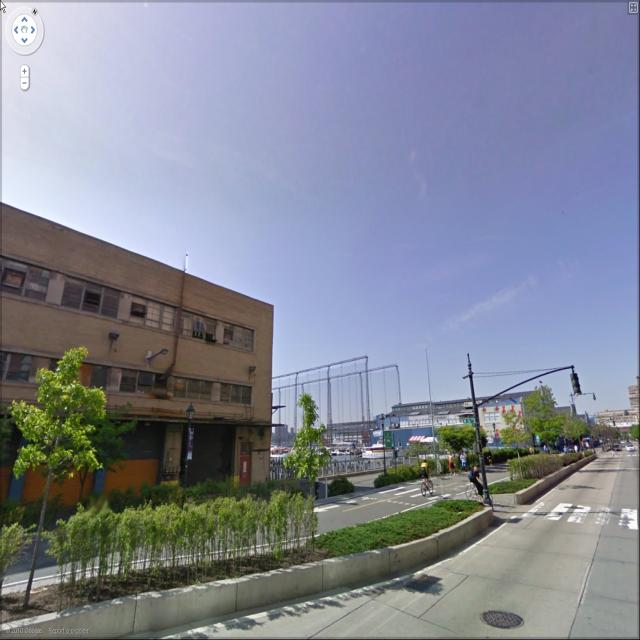b_1: (1, 201, 276, 481), (591, 407, 640, 443), (627, 378, 640, 411)
